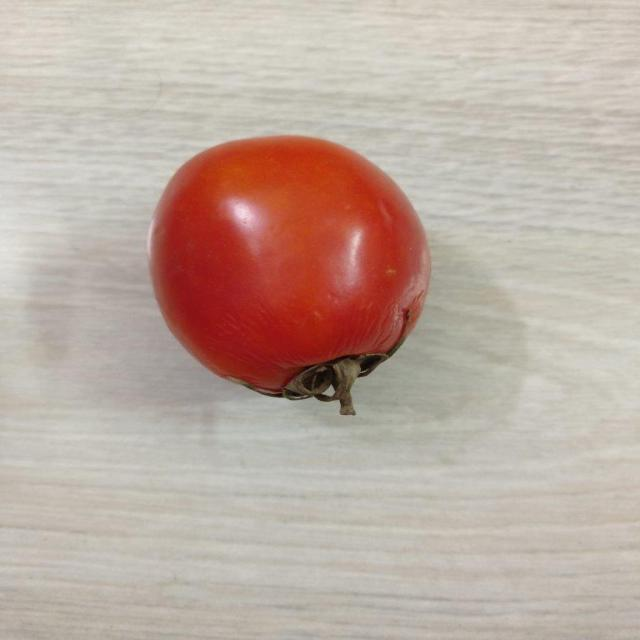Tomato: (147, 135, 442, 419)
